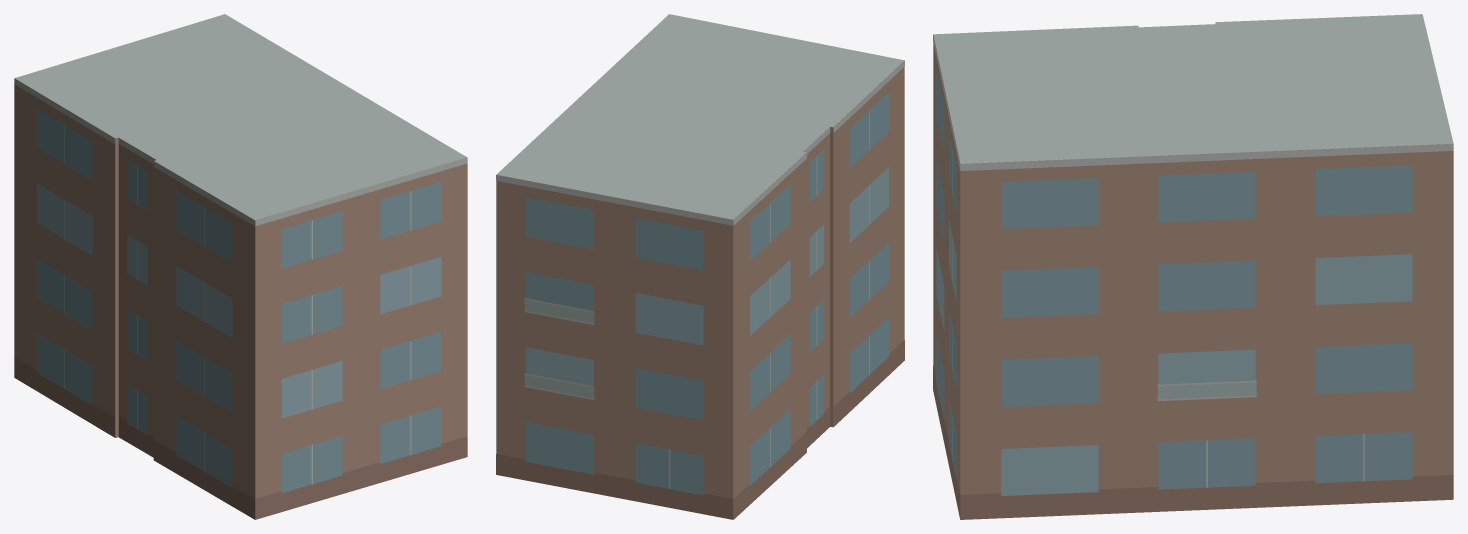
File: survey-upis-32635834.glb
3 views of the same model, side by side, from view 1: azimuth 30°, elevation 25°; view 2: azimuth 150°, elevation 25°; view 3: azimuth 270°, elevation 25° (orthographic). The views are drawn at different scales.
Visible parts, largest first — view 1: survey-upis-32635834.tmp; view 2: survey-upis-32635834.tmp; view 3: survey-upis-32635834.tmp.
Part boxes in pixels (bbox=[...]): survey-upis-32635834.tmp: bbox=[14, 14, 467, 519]; survey-upis-32635834.tmp: bbox=[496, 14, 904, 519]; survey-upis-32635834.tmp: bbox=[933, 14, 1453, 519].
Size of the model in its own units: 11.03 by 12.2 by 16.18.
